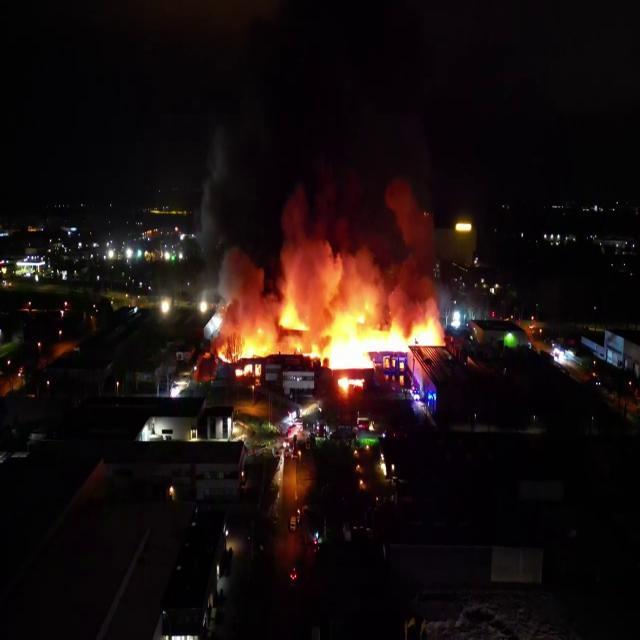Fire: (318, 300, 446, 379), (228, 291, 316, 368)
Smoke: (194, 95, 457, 308)
